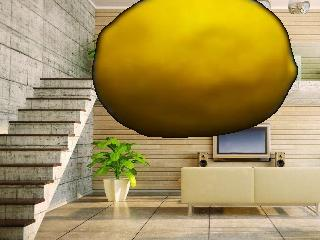lemon: (97, 1, 298, 140)
